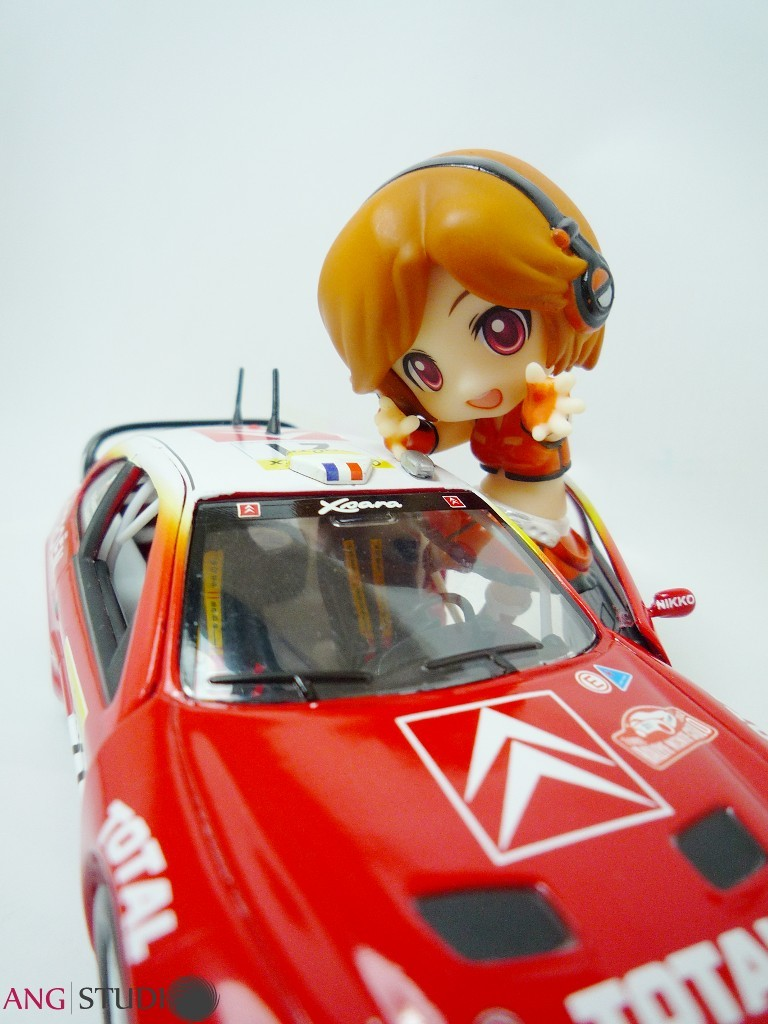Car: (36, 369, 767, 1022)
